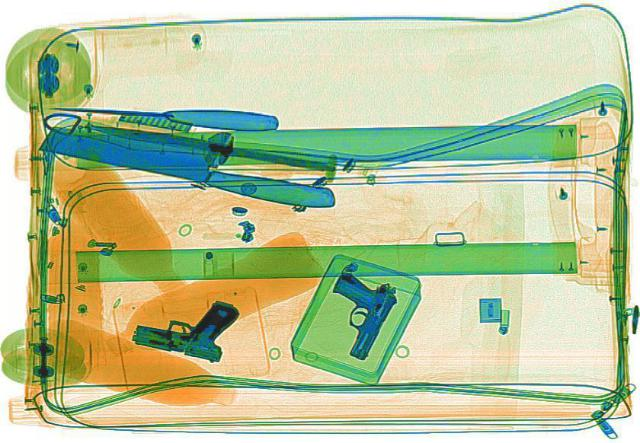Gun: (124, 285, 250, 363), (302, 268, 404, 361)
Knife: (32, 110, 350, 211), (45, 94, 278, 131)
